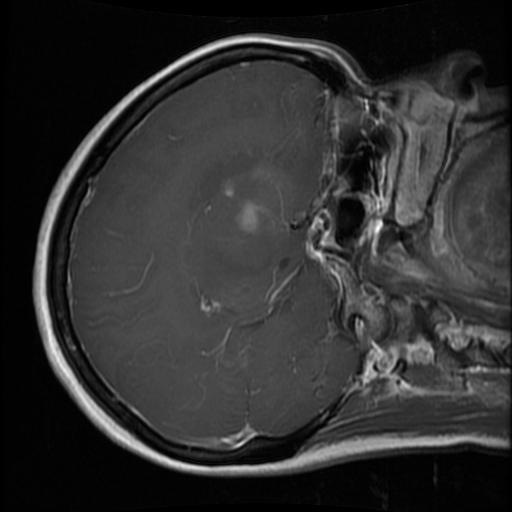glioma: (237, 202, 267, 239)
